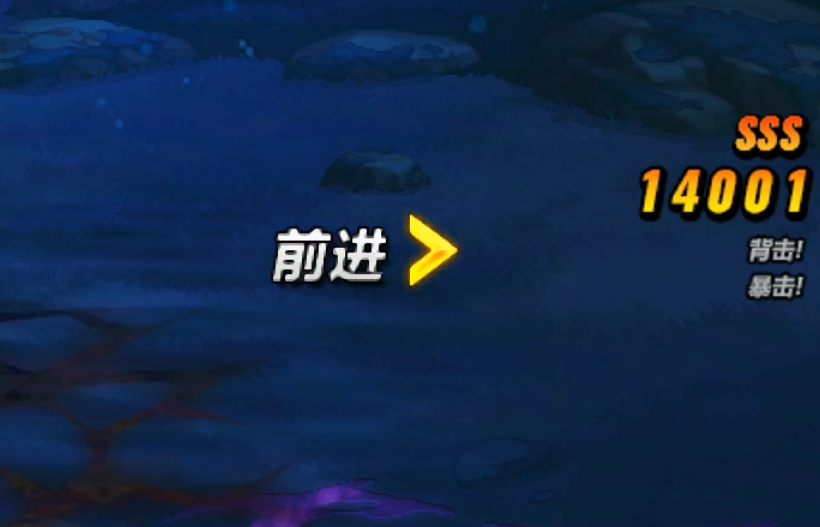forward: (269, 210, 462, 297)
